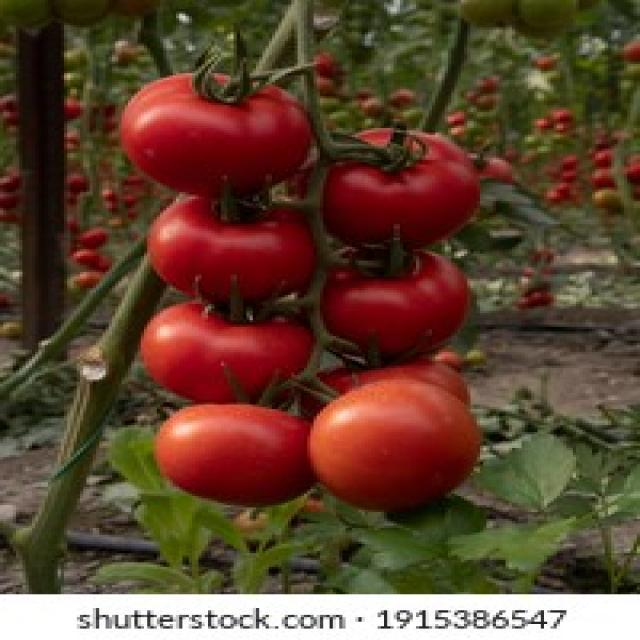kirmizi: (116, 54, 492, 508)
